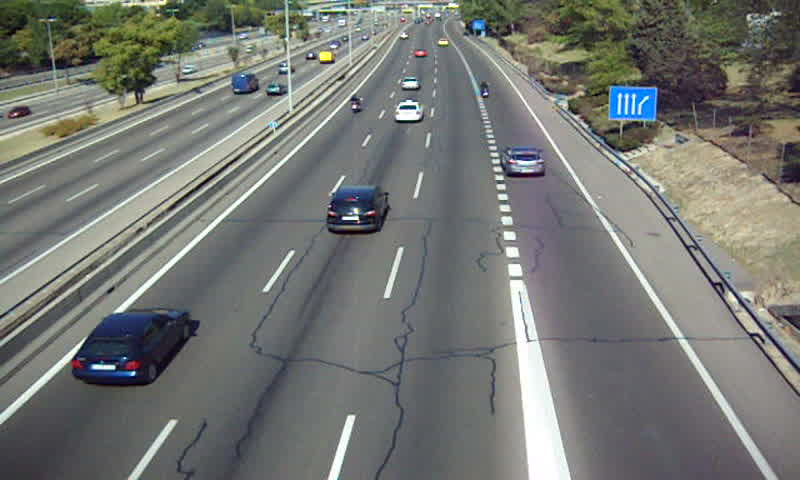car: (71, 310, 189, 384), (326, 186, 389, 232), (500, 145, 545, 178), (394, 100, 422, 122), (400, 75, 420, 90), (411, 48, 429, 59)
motorcycle: (349, 94, 365, 116), (478, 80, 490, 99)
